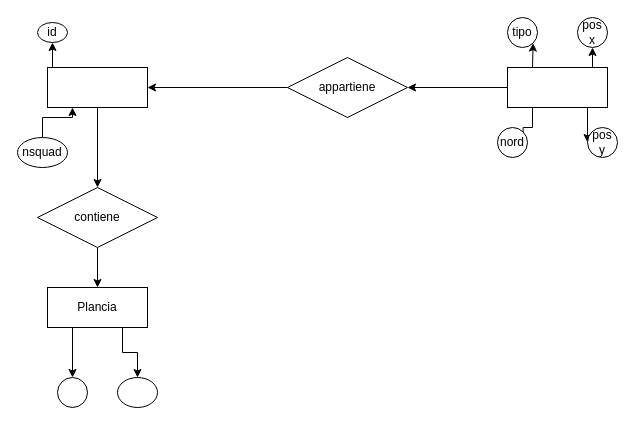
Some shapes in this 635 by 425 pixel diagram are drawn without their labels. Each missing label, with the centre of its shape:
Casella: [557,87]
Gioco: [97,87]
icone: [72,392]
sfondo: [137,392]
